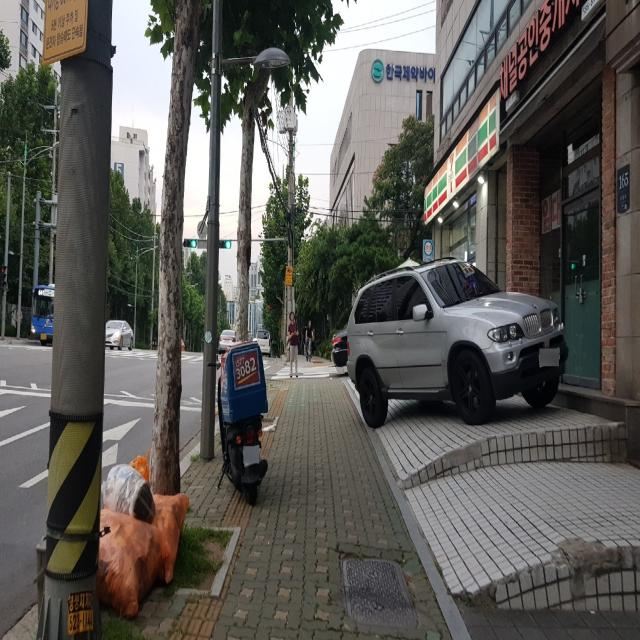횡단보도: (270, 366, 338, 380)
